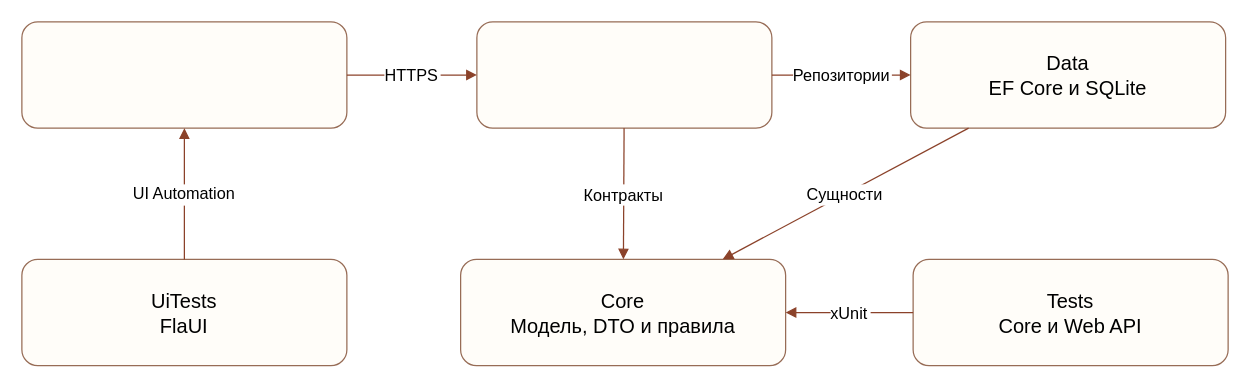
Some shapes in this 1250 by 388 pixel diagram are drawn without their labels. The centre of each missing label's shape, as x and y in pixels:
"API ASP.NET Core" belongs at (624,74).
"Desktop WPF и клиент HTTPS" belongs at (184,74).
